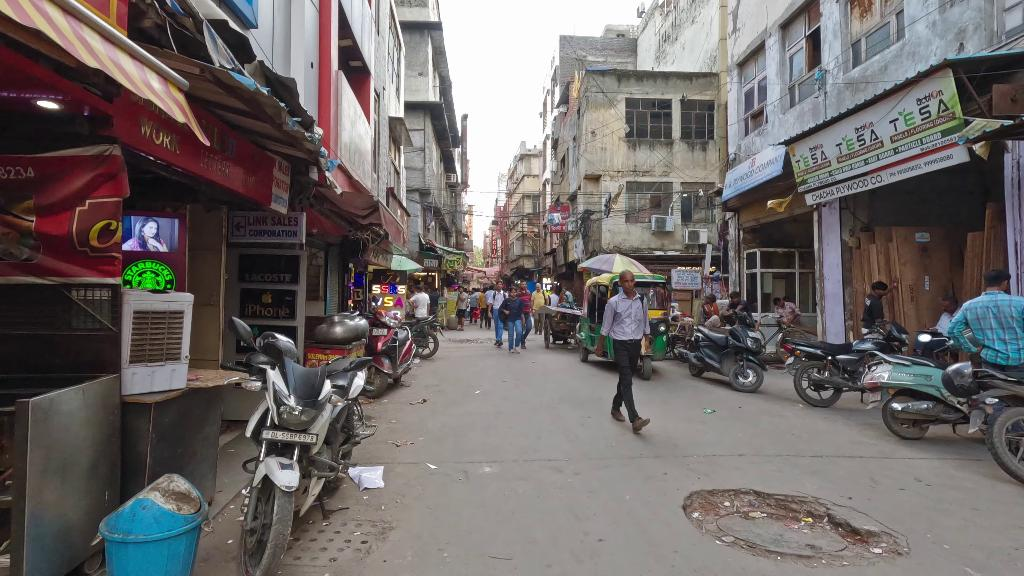dustbin: (86, 472, 213, 576)
garbage: (348, 463, 388, 491)
